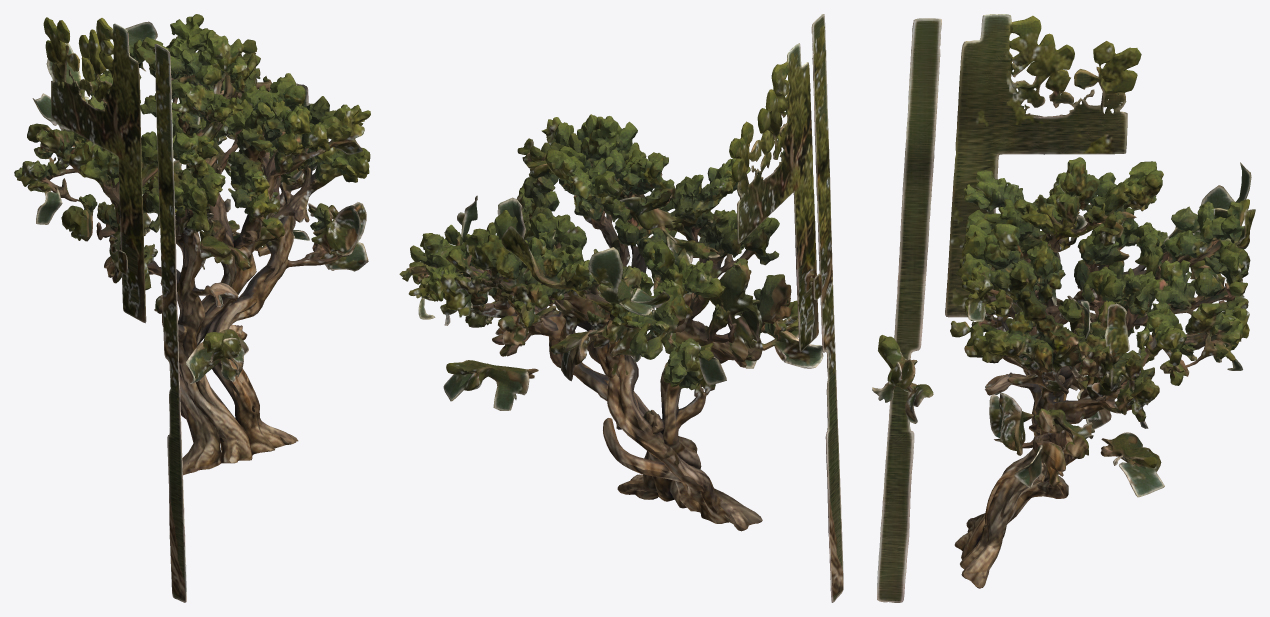
File: scene-0-objects-9-glbData-65676d26c7d5.glb
3 renders of one model, left to right at view 1: azimuth 30°, elevation 25°; view 2: azimuth 150°, elevation 25°; view 3: azimuth 270°, elevation 25°, orthographic. The views are drawn at different scales.
Parts seen in each view (by area): view 1: geometry_0; view 2: geometry_0; view 3: geometry_0.
Boxes of the visible parts, <box> form: geometry_0: <box>14,14,370,602</box>; geometry_0: <box>399,14,843,602</box>; geometry_0: <box>872,14,1255,602</box>.
Size of the model in its own units: 0.5419 by 1 by 0.594.
Materials: 1 (1 with a texture image).
